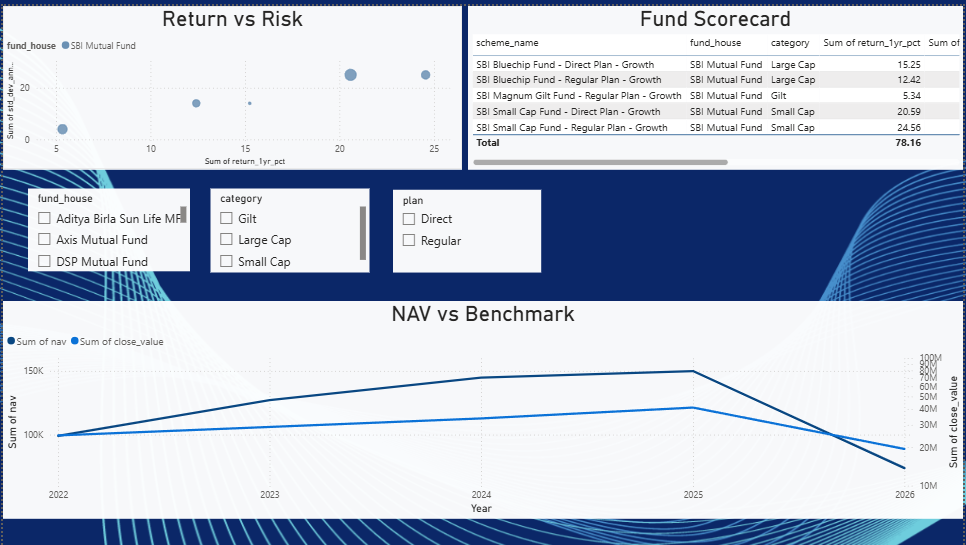

The page's visual inventory and layout, read from the dashboard file:
{"tool":"powerbi","page":{"name":"Fund Performance","canvas":[1280,720],"ordinal":1},"visuals":[{"type":"scatterChart","title":"Return vs Risk","fields":{"X":["Sum(07_scheme_performance_cleaned.return_1yr_pct)"],"Y":["Sum(07_scheme_performance_cleaned.std_dev_ann_pct)"],"Size":["Sum(07_scheme_performance_cleaned.aum_crore)"],"Category":["07_scheme_performance_cleaned.scheme_name"],"Series":["07_scheme_performance_cleaned.fund_house"]},"box":[0,0,612.5,302.5],"z":0},{"type":"slicer","title":"Fund House","fields":{"Values":["07_scheme_performance_cleaned.fund_house"]},"box":[0,302.5,272.5,127.5],"z":1000},{"type":"slicer","fields":{"Values":["07_scheme_performance_cleaned.category"]},"box":[272.5,282.5,240,147.5],"z":2000},{"type":"slicer","fields":{"Values":["07_scheme_performance_cleaned.plan"]},"box":[512.5,282.5,197.5,242.5],"z":3000},{"type":"tableEx","title":"Fund Scorecard","fields":{"Values":["07_scheme_performance_cleaned.scheme_name","07_scheme_performance_cleaned.fund_house","07_scheme_performance_cleaned.category","Sum(07_scheme_performance_cleaned.return_1yr_pct)","Sum(07_scheme_performance_cleaned.return_3yr_pct)","Sum(07_scheme_performance_cleaned.return_5yr_pct)","07_scheme_performance_cleaned.risk_grade","Sum(07_scheme_performance_cleaned.std_dev_ann_pct)","Sum(07_scheme_performance_cleaned.sharpe_ratio)"]},"box":[620,0,660,302.5],"z":4000},{"type":"lineChart","title":"NAV vs Benchmark","fields":{"Category":["02_nav_history_cleaned.date.Variation.Date Hierarchy.Year","02_nav_history_cleaned.date.Variation.Date Hierarchy.Quarter","02_nav_history_cleaned.date.Variation.Date Hierarchy.Month","02_nav_history_cleaned.date.Variation.Date Hierarchy.Day"],"Y":["Sum(02_nav_history_cleaned.nav)"],"Y2":["Sum(10_benchmark_indices_cleaned.close_value)"]},"box":[0,430,1280,290],"z":5000}]}

Visuals, with their boxes in screenshot pixels (x1, y1, x2, y2), scaled from the page's 1280x720 canvas onto the 966x545 screenshot:
"Return vs Risk" scatterChart: l=0, t=0, r=462, b=229
"Fund House" slicer: l=0, t=229, r=206, b=325
slicer - 07_scheme_performance_cleaned.category: l=206, t=214, r=387, b=325
slicer - 07_scheme_performance_cleaned.plan: l=387, t=214, r=536, b=397
"Fund Scorecard" tableEx: l=468, t=0, r=965, b=229
"NAV vs Benchmark" lineChart: l=0, t=325, r=965, b=544
